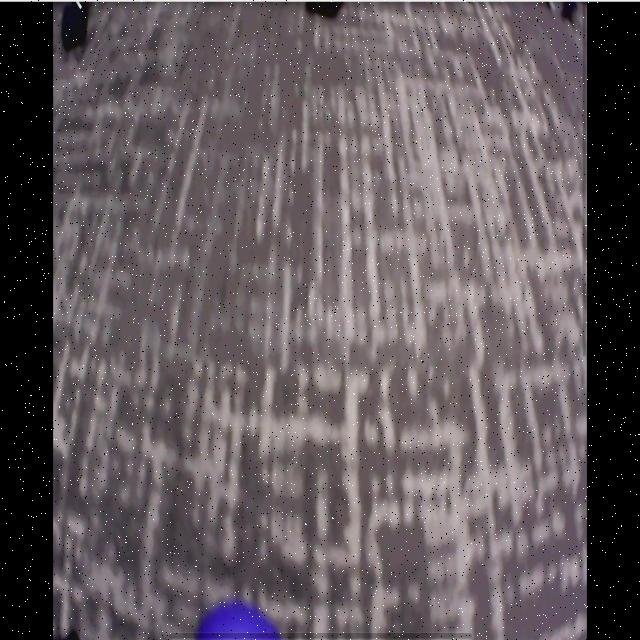ball: (196, 600, 283, 640)
